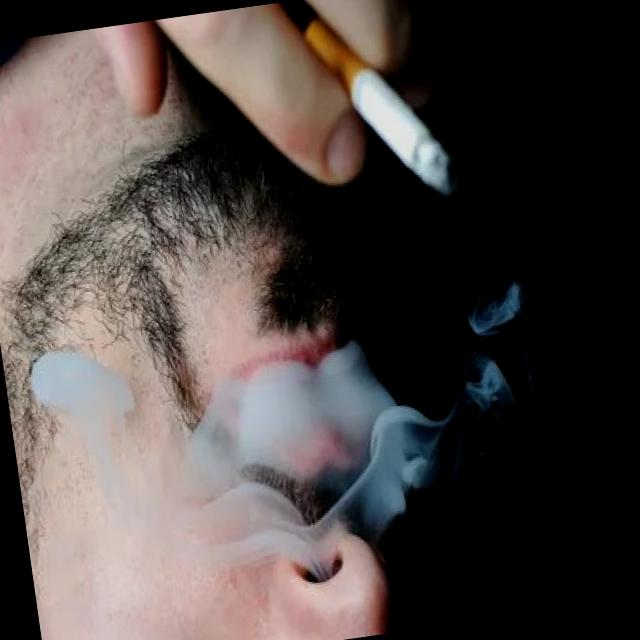cigarette: (294, 0, 469, 221)
